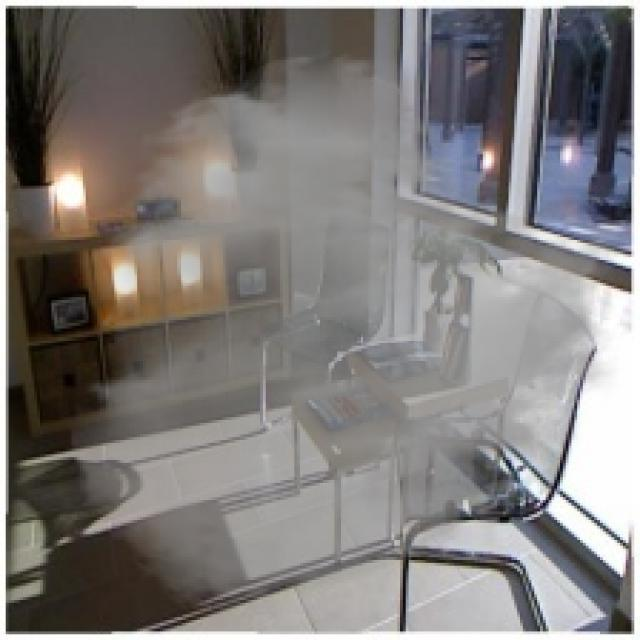Smoke: (66, 48, 632, 614)
